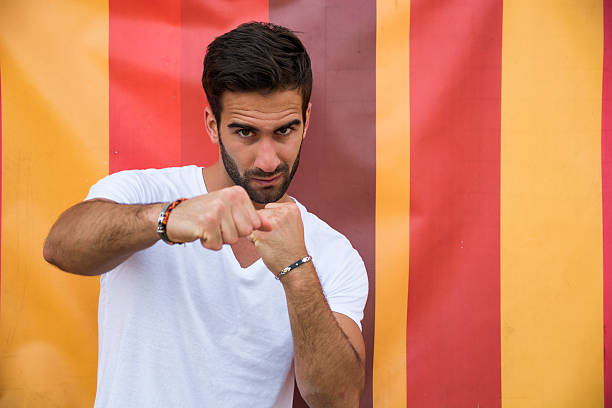Yes: (170, 189, 262, 253)
